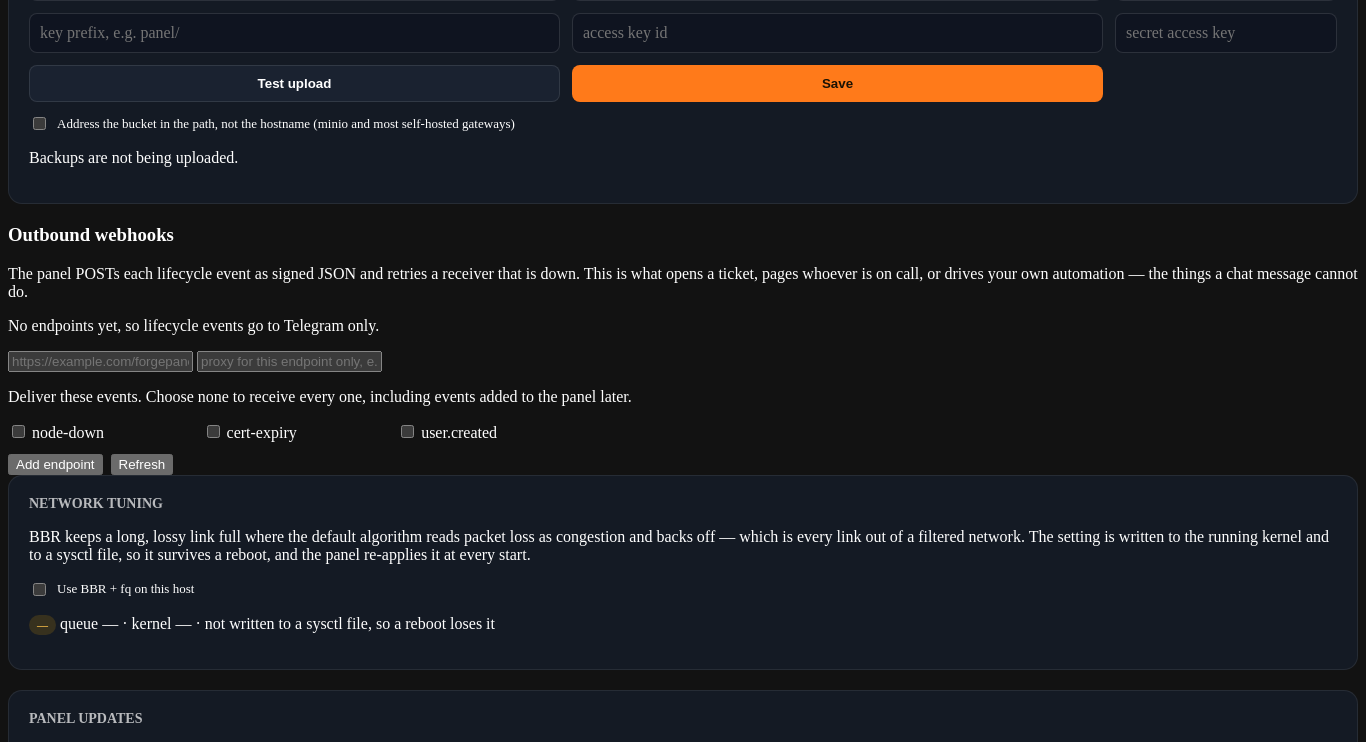
Test case: SystemHealthView webhook endpoints card › shows the minted secret once, and does not pretend to have it later
The image size is (1366, 742).
(page scrolled)
In the field with test id "webhook-url": coordinates (100, 361) [8, 351, 193, 372], type "https://ops.example/new"
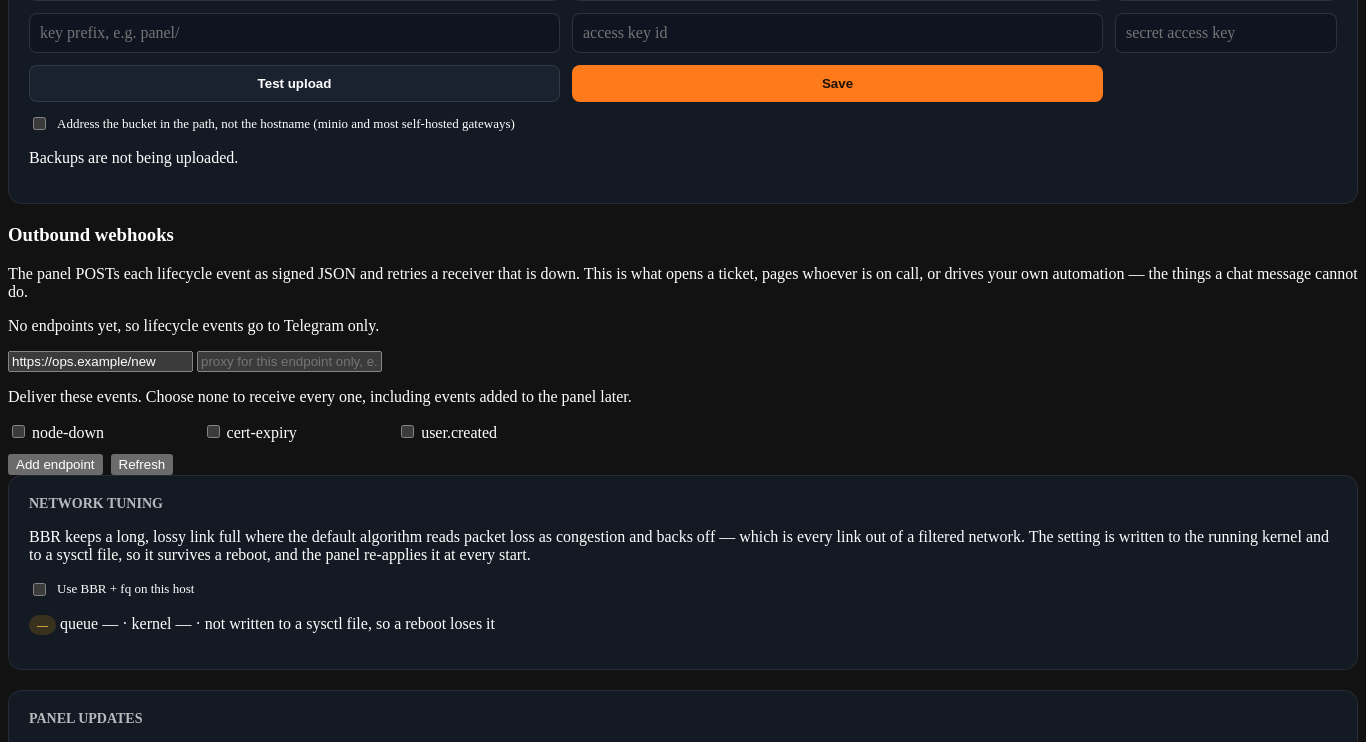
Click the button with test id "webhook-create": coordinates (55, 464) [8, 454, 103, 475]
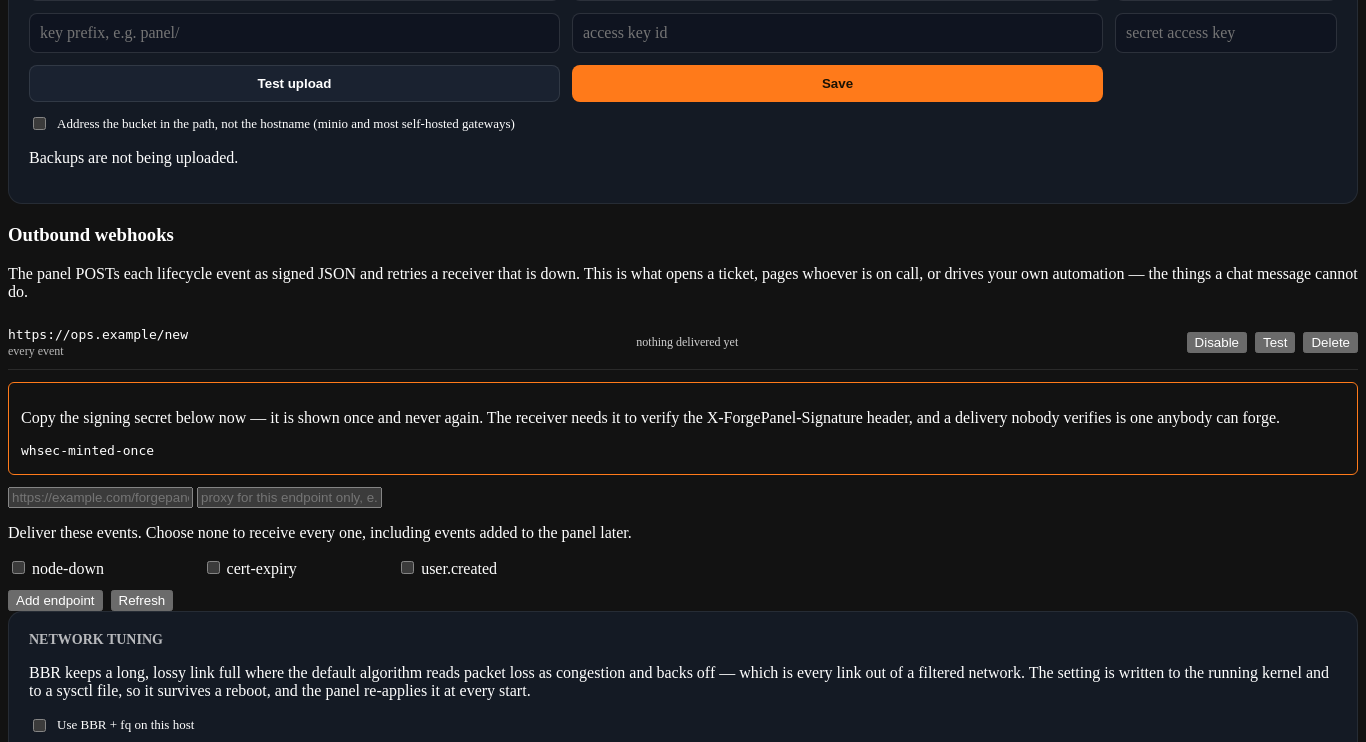
Expected: the element with test id "webhook-secret-reveal" shows "whsec-minted-once", [21, 443, 154, 458]
Click the button with test id "webhook-refresh": coordinates (142, 600) [111, 590, 173, 611]
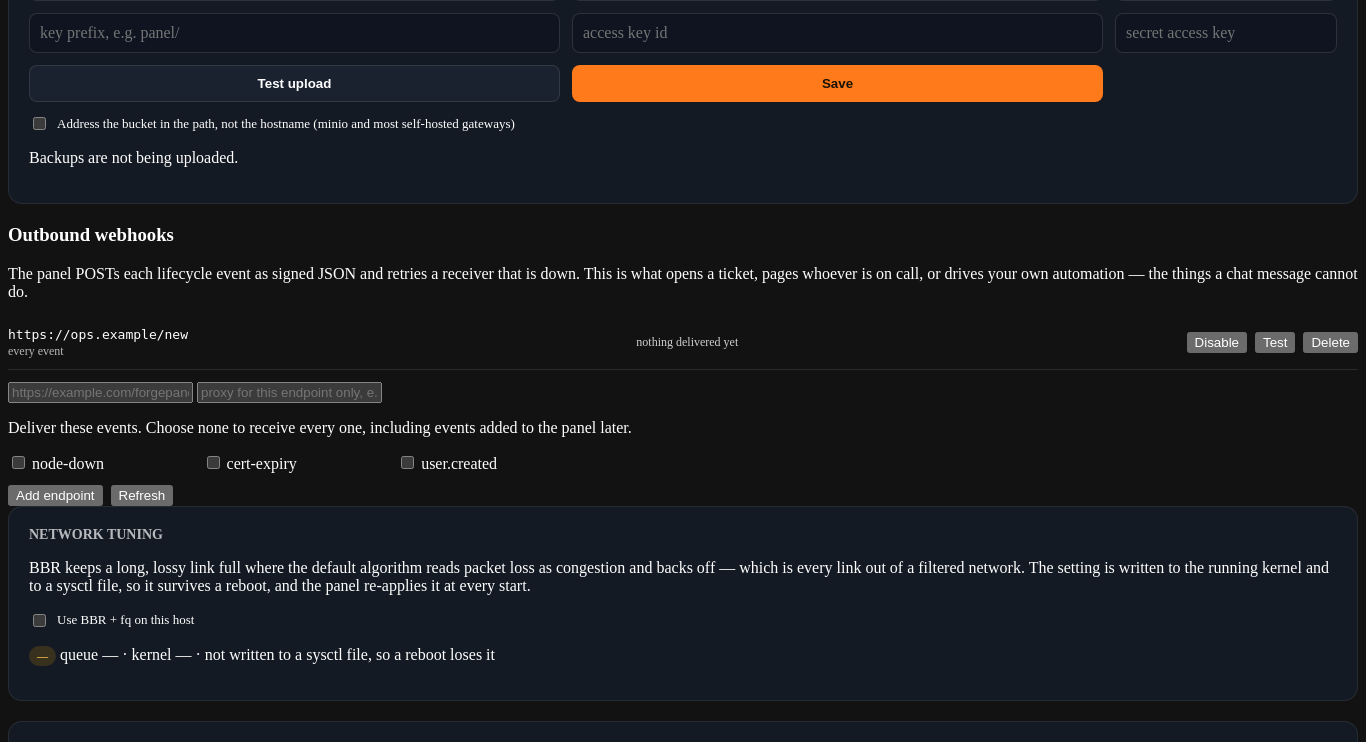
Expected: the element with test id "webhook-secret-reveal" is gone
